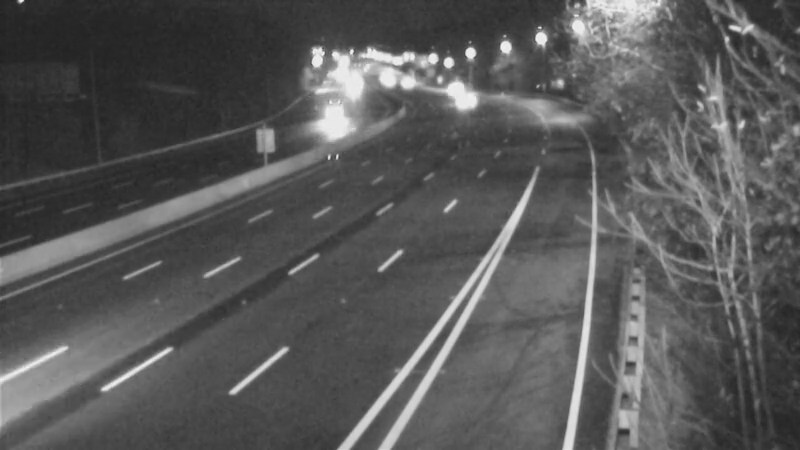vehicle: (379, 57, 429, 107), (432, 63, 482, 113), (438, 74, 488, 124), (304, 93, 354, 143)
